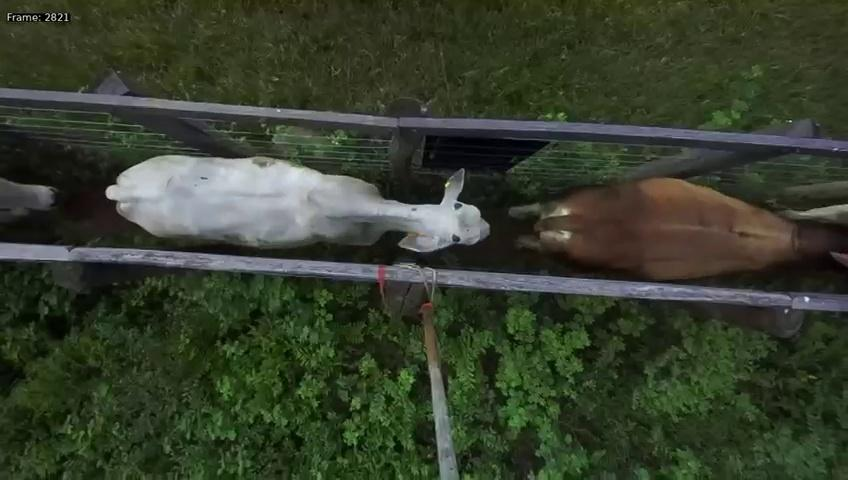cattle: (104, 154, 492, 259), (506, 173, 848, 285)
